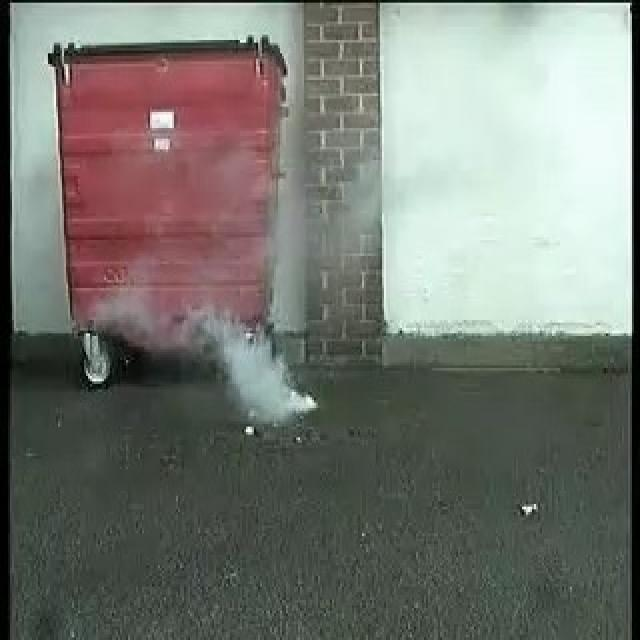smoke: (115, 286, 315, 425)
